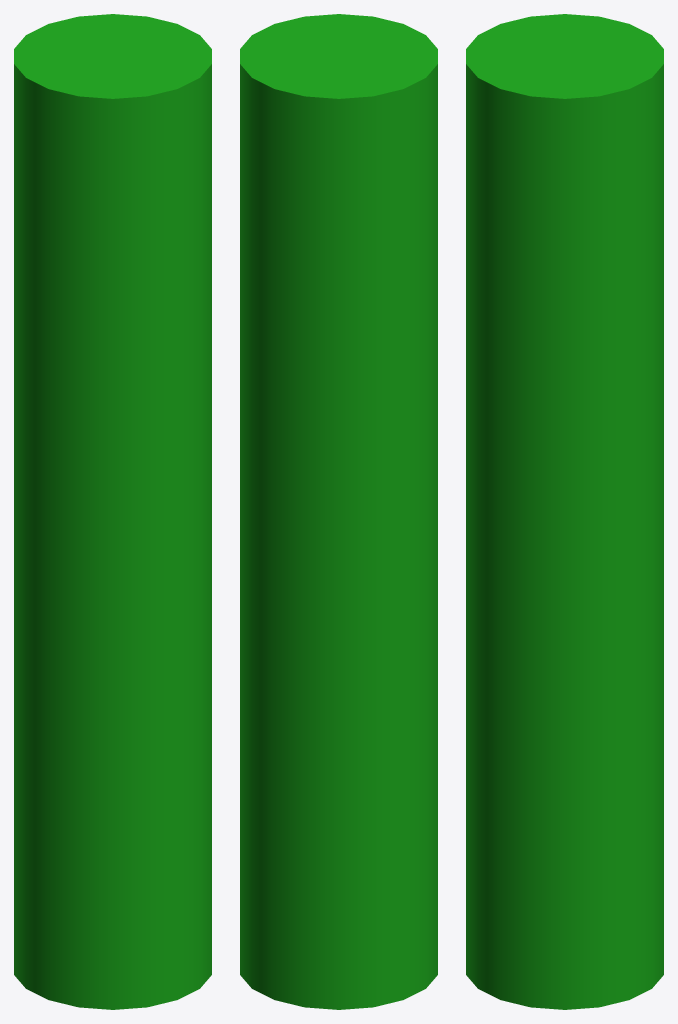
The model's file is Branch.obj.
The picture shows the model from 3 angles, left to right: view 1: azimuth 30°, elevation 25°; view 2: azimuth 150°, elevation 25°; view 3: azimuth 270°, elevation 25°; orthographic projection.
Visible parts, largest first — view 1: Cylinder001; view 2: Cylinder001; view 3: Cylinder001.
Part boxes in pixels (x1=…): Cylinder001: x1=14, y1=14, x2=211, y2=1009; Cylinder001: x1=240, y1=14, x2=437, y2=1009; Cylinder001: x1=466, y1=14, x2=663, y2=1009.
Size of the model in its own units: 20 by 100 by 19.7.
